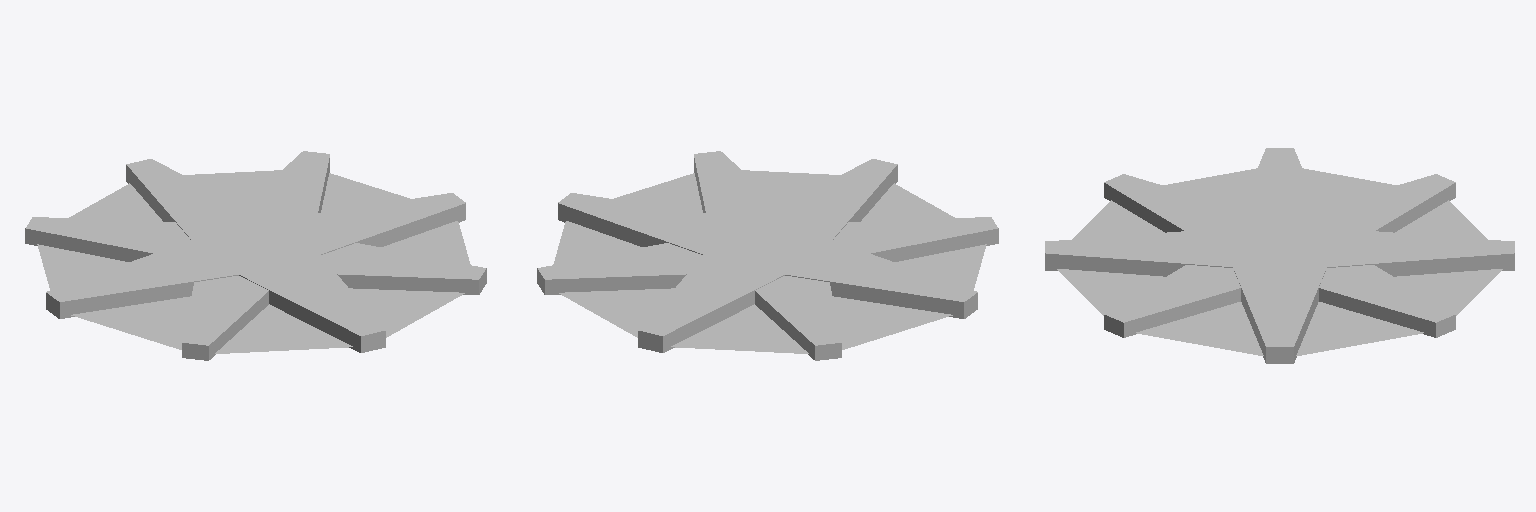
Rendered from drill_head.obj.
3 renders of one model, left to right at view 1: azimuth 30°, elevation 25°; view 2: azimuth 150°, elevation 25°; view 3: azimuth 270°, elevation 25°, orthographic.
Visible parts, largest first — view 1: Cube_Cube.001; view 2: Cube_Cube.001; view 3: Cube_Cube.001.
Part boxes in pixels (x1,y1,x2,y2): Cube_Cube.001: (25,151,486,360); Cube_Cube.001: (537,151,998,360); Cube_Cube.001: (1045,148,1514,363).
Size of the model in its own units: 5 by 0.2 by 5.